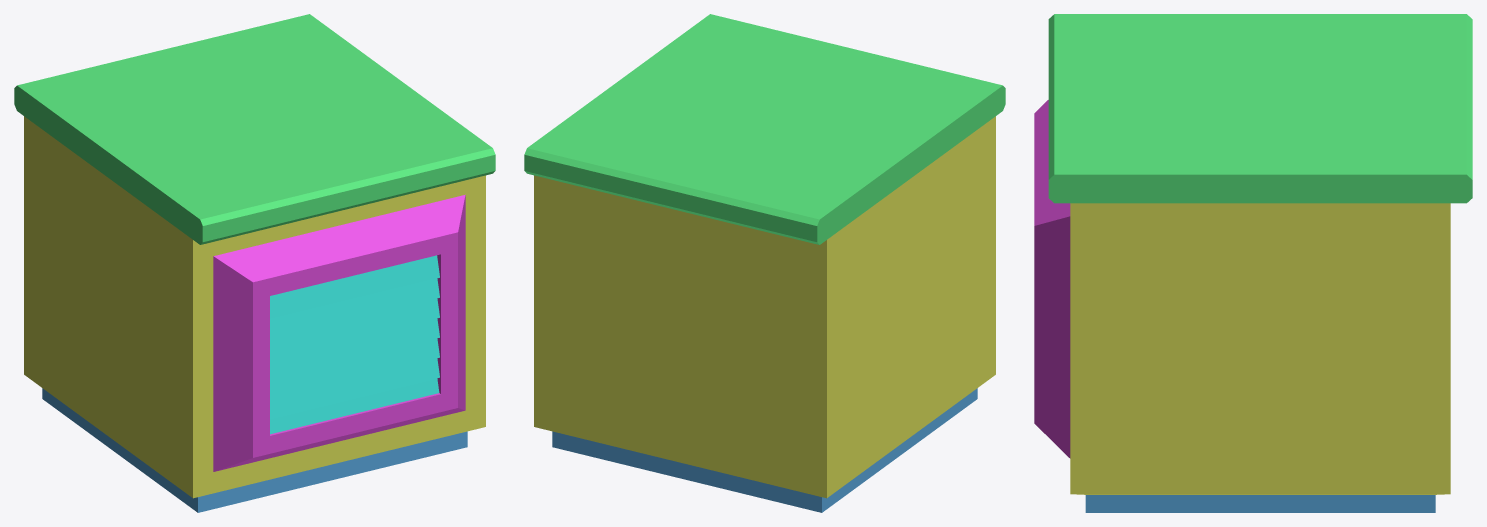
The model's file is Desk_07_B.fbx.
The picture shows the model from 3 angles, left to right: view 1: azimuth 30°, elevation 25°; view 2: azimuth 150°, elevation 25°; view 3: azimuth 270°, elevation 25°; orthographic projection. The views are drawn at different scales.
Parts seen in each view (by area): view 1: Desk_07_B; view 2: Desk_07_B; view 3: Desk_07_B.
Boxes of the visible parts, <box> form: Desk_07_B: <box>14,14,495,512</box>; Desk_07_B: <box>524,14,1005,512</box>; Desk_07_B: <box>1034,14,1472,512</box>.
Bounding box in the file's own units: 91.44 × 91.44 × 105.
